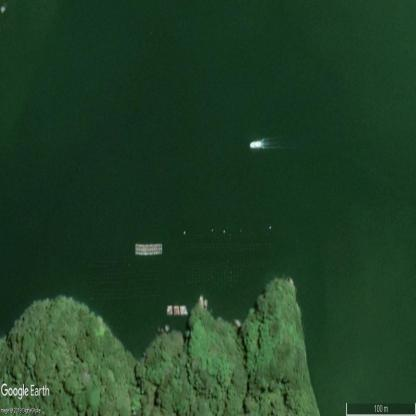ship: (135, 243, 162, 255), (250, 141, 261, 148)
